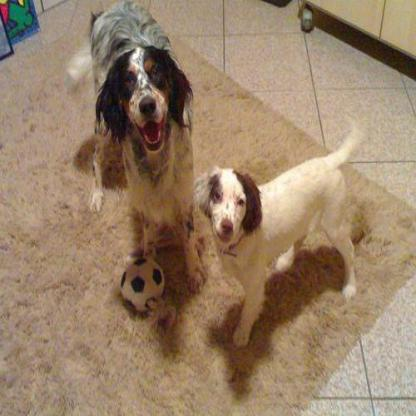English_setter: (66, 0, 208, 293), (195, 127, 362, 348)
